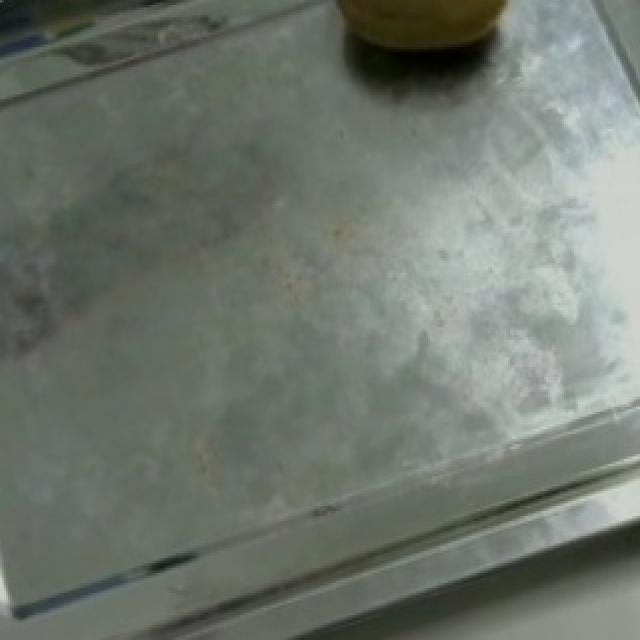Fruit: (304, 0, 546, 102)
